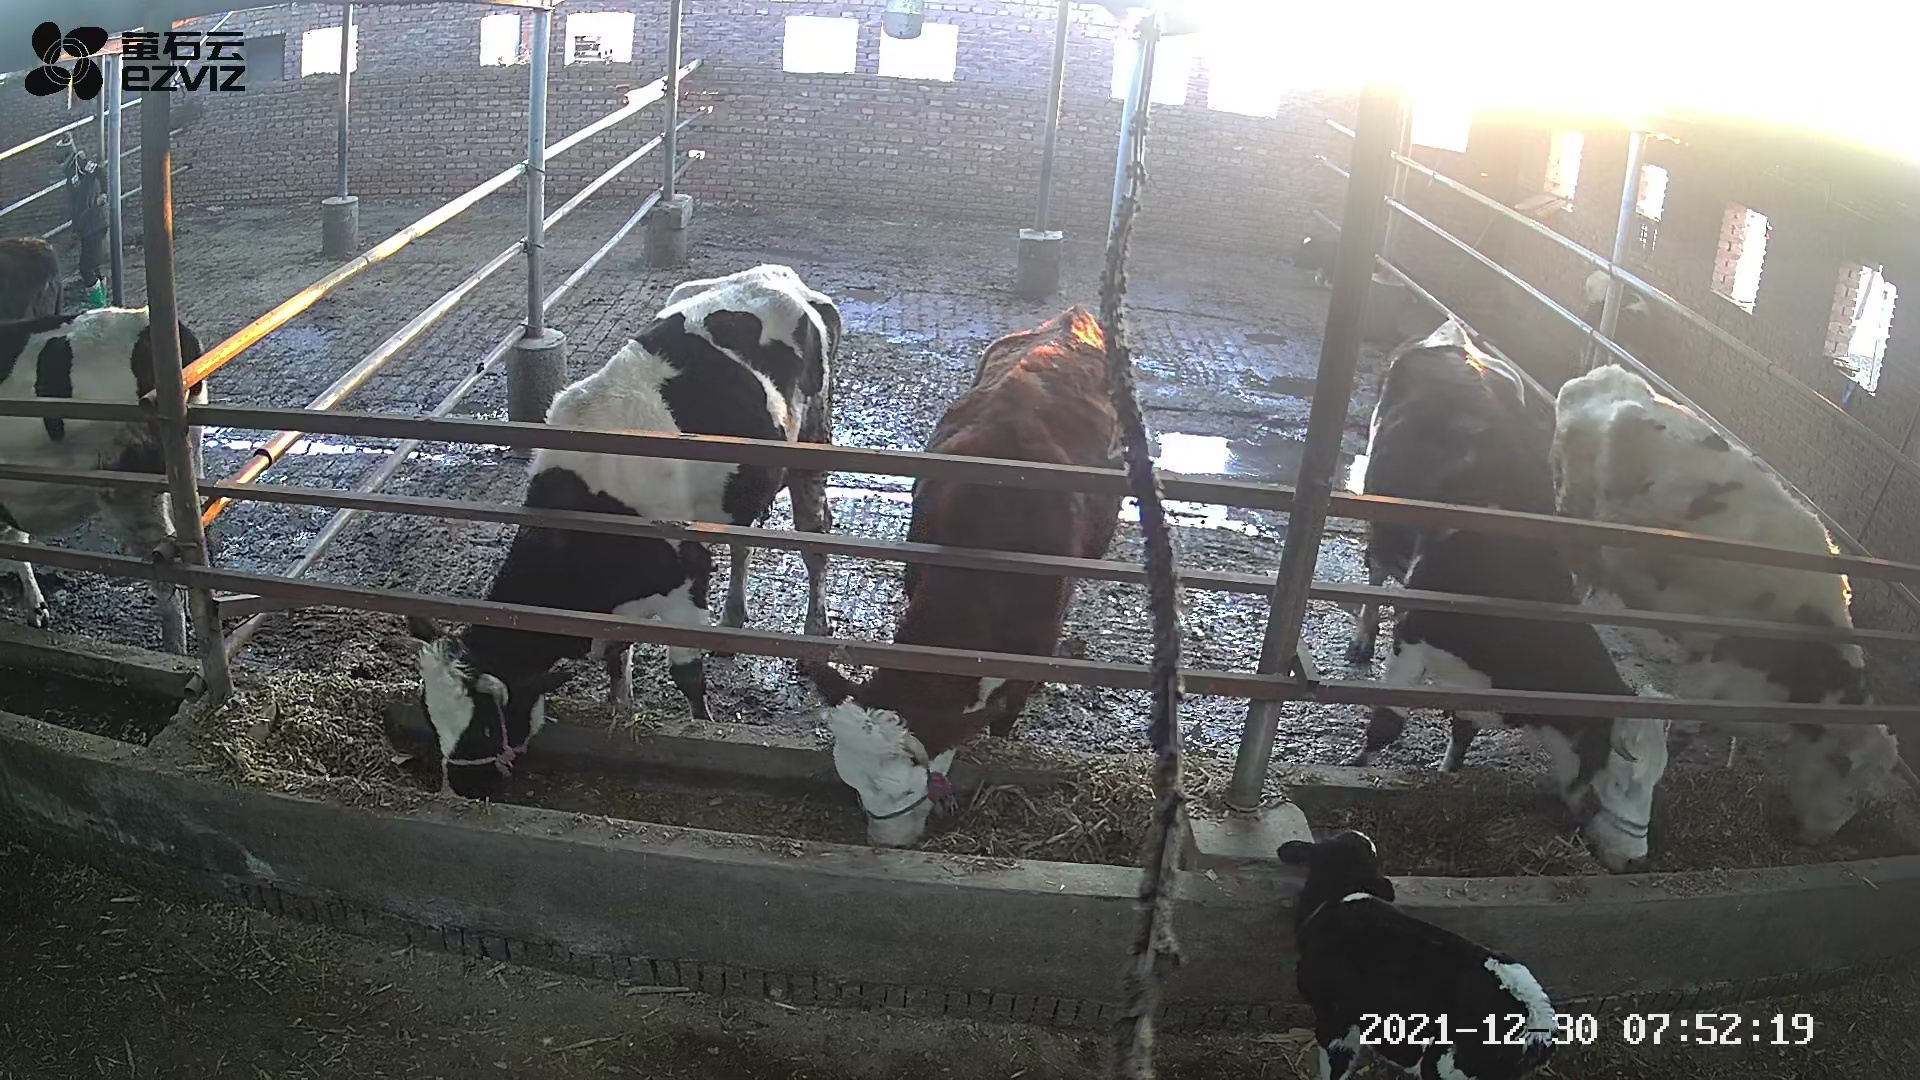cow: (393, 261, 843, 800), (1336, 313, 1677, 873), (799, 301, 1137, 848), (1551, 365, 1902, 847)
